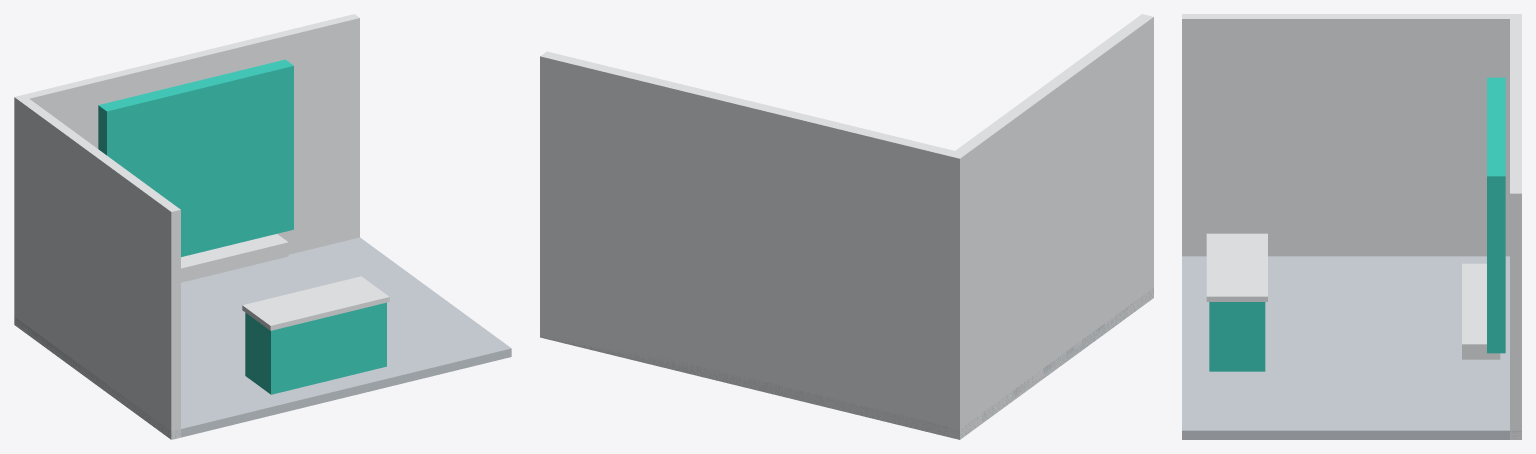
3 renders of one model, left to right at view 1: azimuth 30°, elevation 25°; view 2: azimuth 150°, elevation 25°; view 3: azimuth 270°, elevation 25°, orthographic. The views are drawn at different scales.
Parts seen in each view (by area): view 1: Exhibition Booth Concept; view 2: Exhibition Booth Concept; view 3: Exhibition Booth Concept.
Part boxes in pixels (box(x1,y1,x2,y2)): Exhibition Booth Concept: box(14, 14, 511, 439); Exhibition Booth Concept: box(540, 14, 1153, 439); Exhibition Booth Concept: box(1182, 14, 1521, 439).
Size of the model in its own units: 5 by 3.2 by 4.
